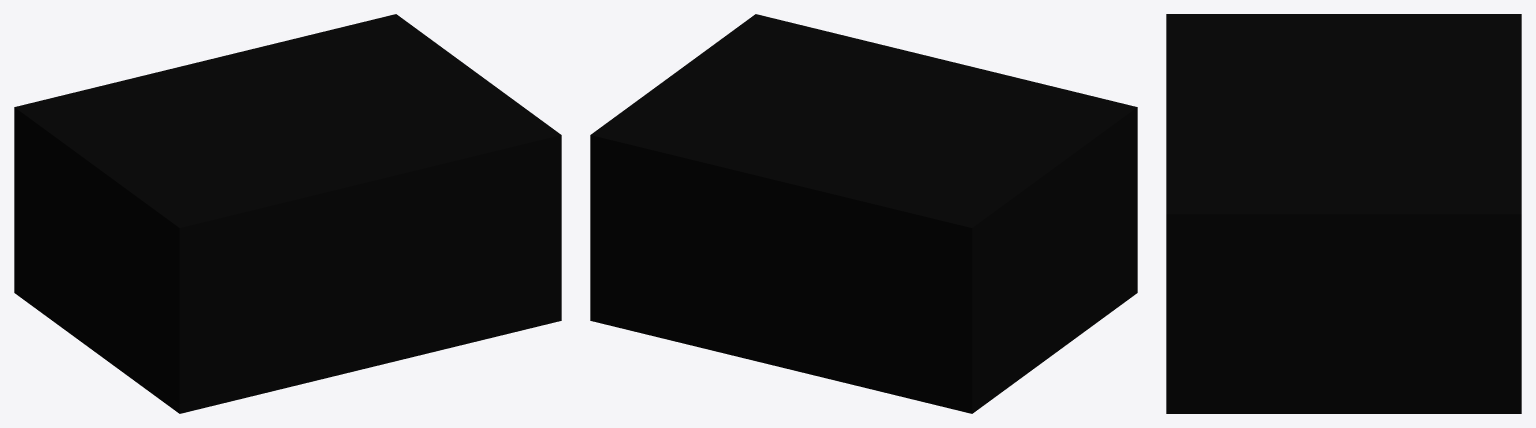
Rendered from SM_flare_pack.fbx.
3 renders of one model, left to right at view 1: azimuth 30°, elevation 25°; view 2: azimuth 150°, elevation 25°; view 3: azimuth 270°, elevation 25°, orthographic. The views are drawn at different scales.
Parts seen in each view (by area): view 1: flare_pack, flare_pack_lid; view 2: flare_pack, flare_pack_lid; view 3: flare_pack_lid, flare_pack.
Part boxes in pixels (x1,y1,x2,y2): flare_pack: [14, 113, 561, 413]; flare_pack_lid: [14, 14, 561, 233]; flare_pack: [590, 113, 1137, 413]; flare_pack_lid: [590, 14, 1137, 233]; flare_pack_lid: [1166, 14, 1521, 220]; flare_pack: [1166, 220, 1521, 413].
Size of the model in its own units: 0.1 by 0.0465 by 0.075.
